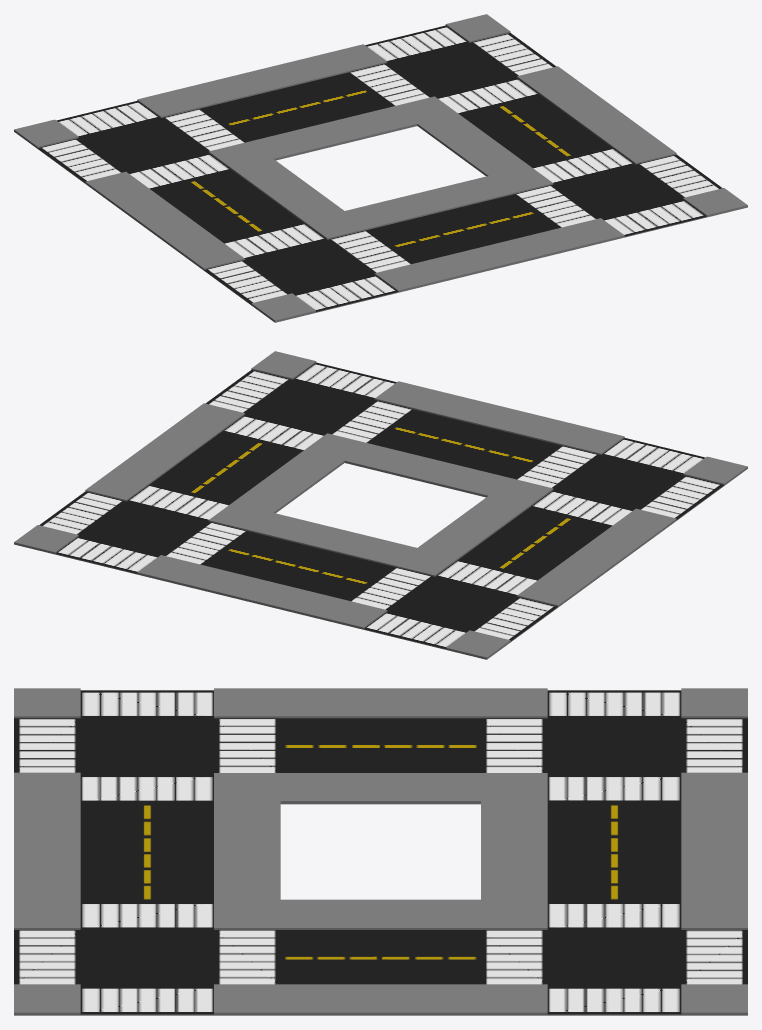
File: Calle.fbx
3 renders of one model, top to bottom at view 1: azimuth 30°, elevation 25°; view 2: azimuth 150°, elevation 25°; view 3: azimuth 270°, elevation 25°, orthographic. The views are drawn at different scales.
Parts seen in each view (by area): view 1: Calle; view 2: Calle; view 3: Calle.
Part boxes in pixels (x1,y1,x2,y2): Calle: (14, 14, 747, 322); Calle: (14, 351, 747, 659); Calle: (14, 688, 747, 1015).
Bounding box in the file's own units: 2300 × 10.6 × 2200.
4 materials, 3 textured.
